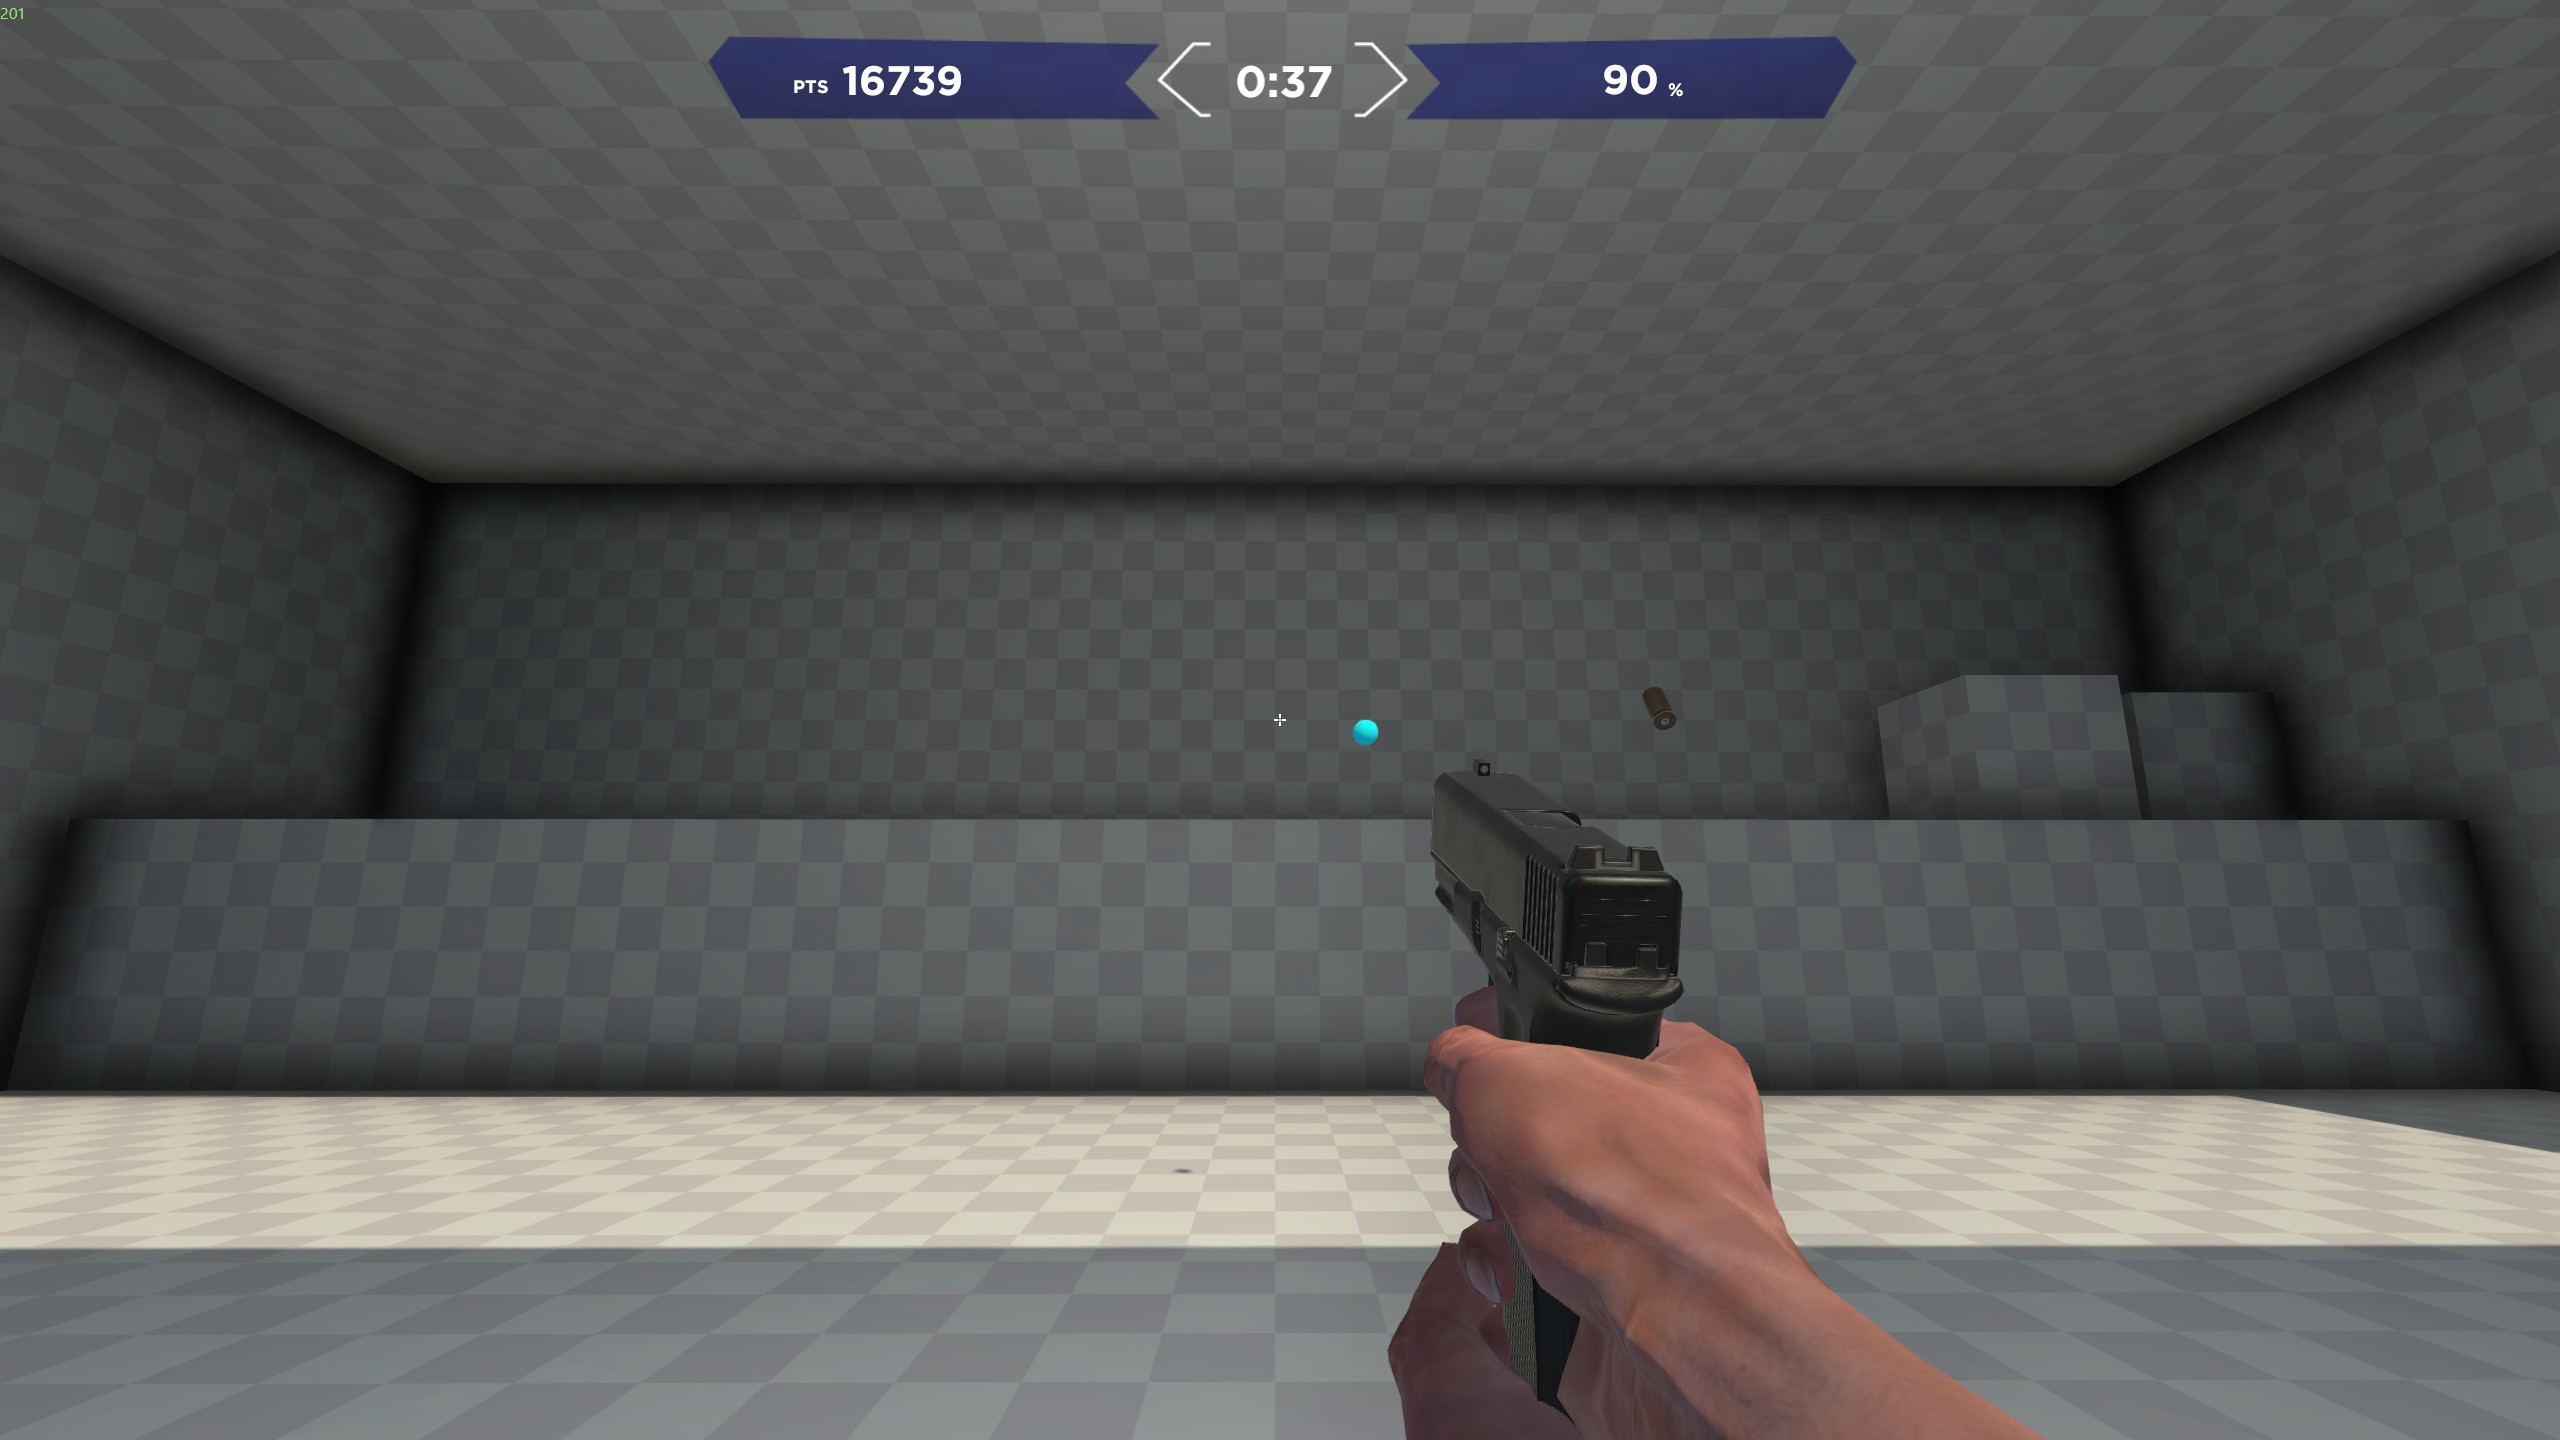Target: (1345, 721, 1391, 747)
